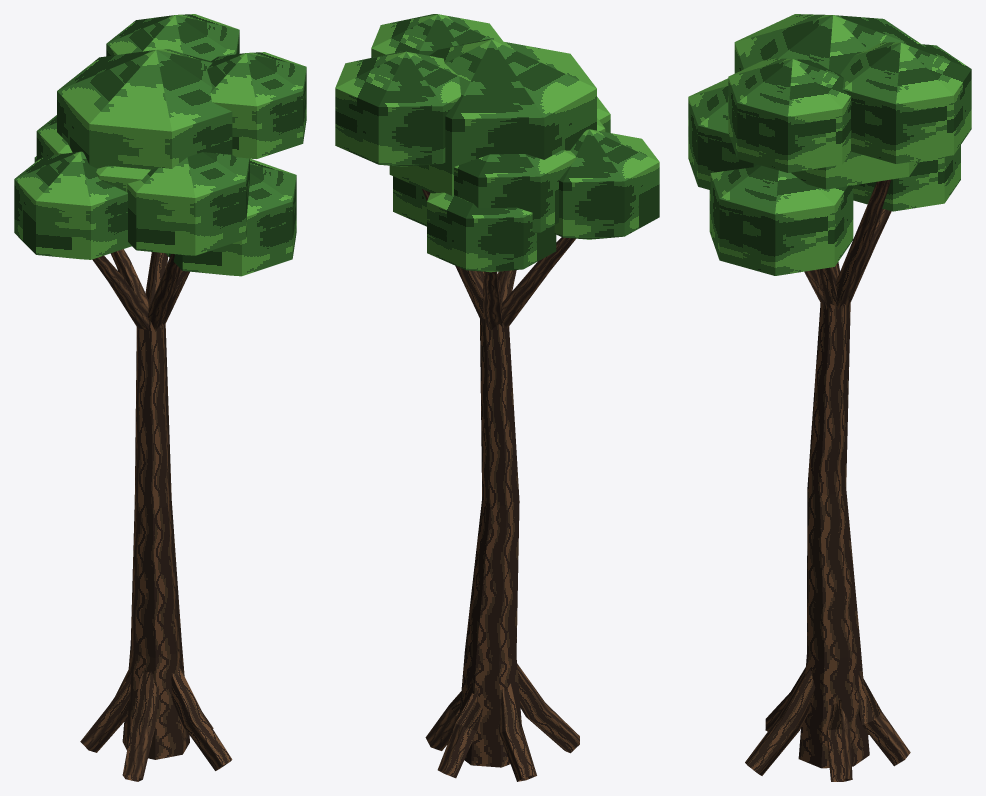
Rendered from arbolmayorIsla3.gltf.
3 views of the same model, side by side, from view 1: azimuth 30°, elevation 25°; view 2: azimuth 150°, elevation 25°; view 3: azimuth 270°, elevation 25° (orthographic). The views are drawn at different scales.
Parts seen in each view (by area): view 1: FLO-16_Arbol_mayor.323; view 2: FLO-16_Arbol_mayor.323; view 3: FLO-16_Arbol_mayor.323.
Boxes of the visible parts, x1,y1,x2,y2 form: FLO-16_Arbol_mayor.323: (14, 14, 306, 781); FLO-16_Arbol_mayor.323: (335, 14, 659, 781); FLO-16_Arbol_mayor.323: (688, 14, 971, 781).
Size of the model in its own units: 10.92 by 26.99 by 9.31.
Materials: 1 (1 with a texture image).
